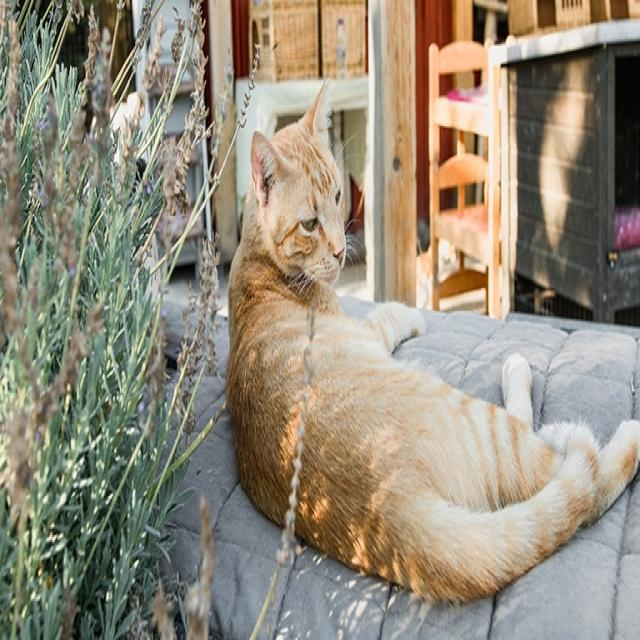cat: (228, 86, 640, 602)
